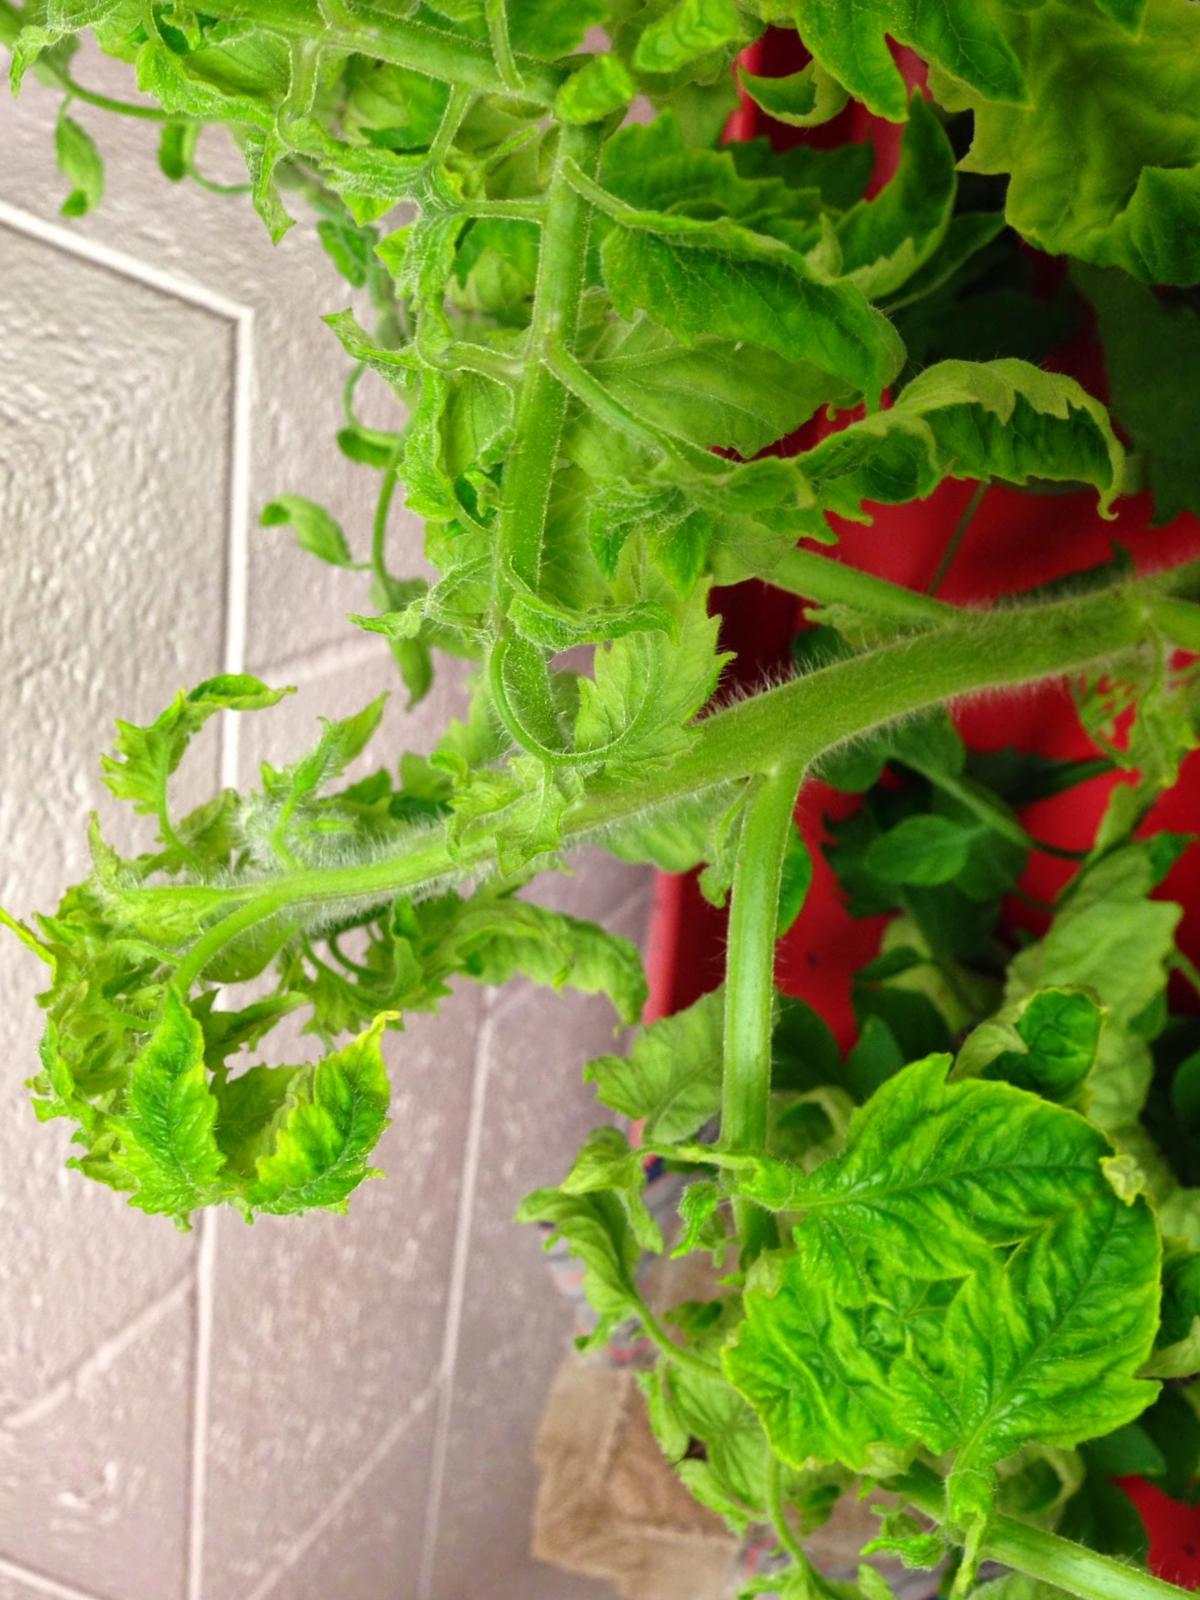Tomato leaf yellow virus: (683, 257, 1177, 695), (698, 970, 1136, 1367), (548, 82, 934, 486), (182, 964, 505, 1262), (480, 527, 779, 814), (15, 954, 306, 1243)
